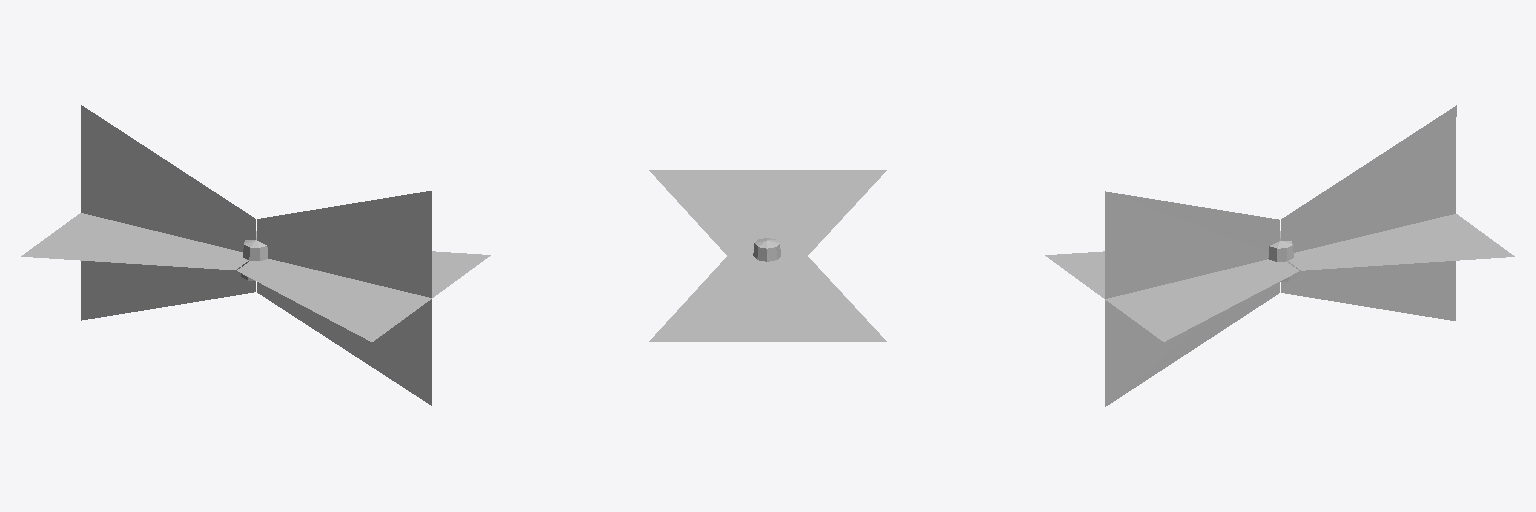
File: stg400_MotRotlightA_r5_18.obj
3 views of the same model, side by side, from view 1: azimuth 30°, elevation 25°; view 2: azimuth 150°, elevation 25°; view 3: azimuth 270°, elevation 25° (orthographic).
Visible parts, largest first — view 1: polygon4; view 2: polygon4, polygon1; view 3: polygon4.
Part boxes in pixels (x1,y1,x2,y2): polygon4: (21,105,490,405); polygon4: (649,170,886,341); polygon1: (753,238,780,261); polygon4: (1045,105,1514,406).
Size of the model in its own units: 110 by 63.89 by 126.